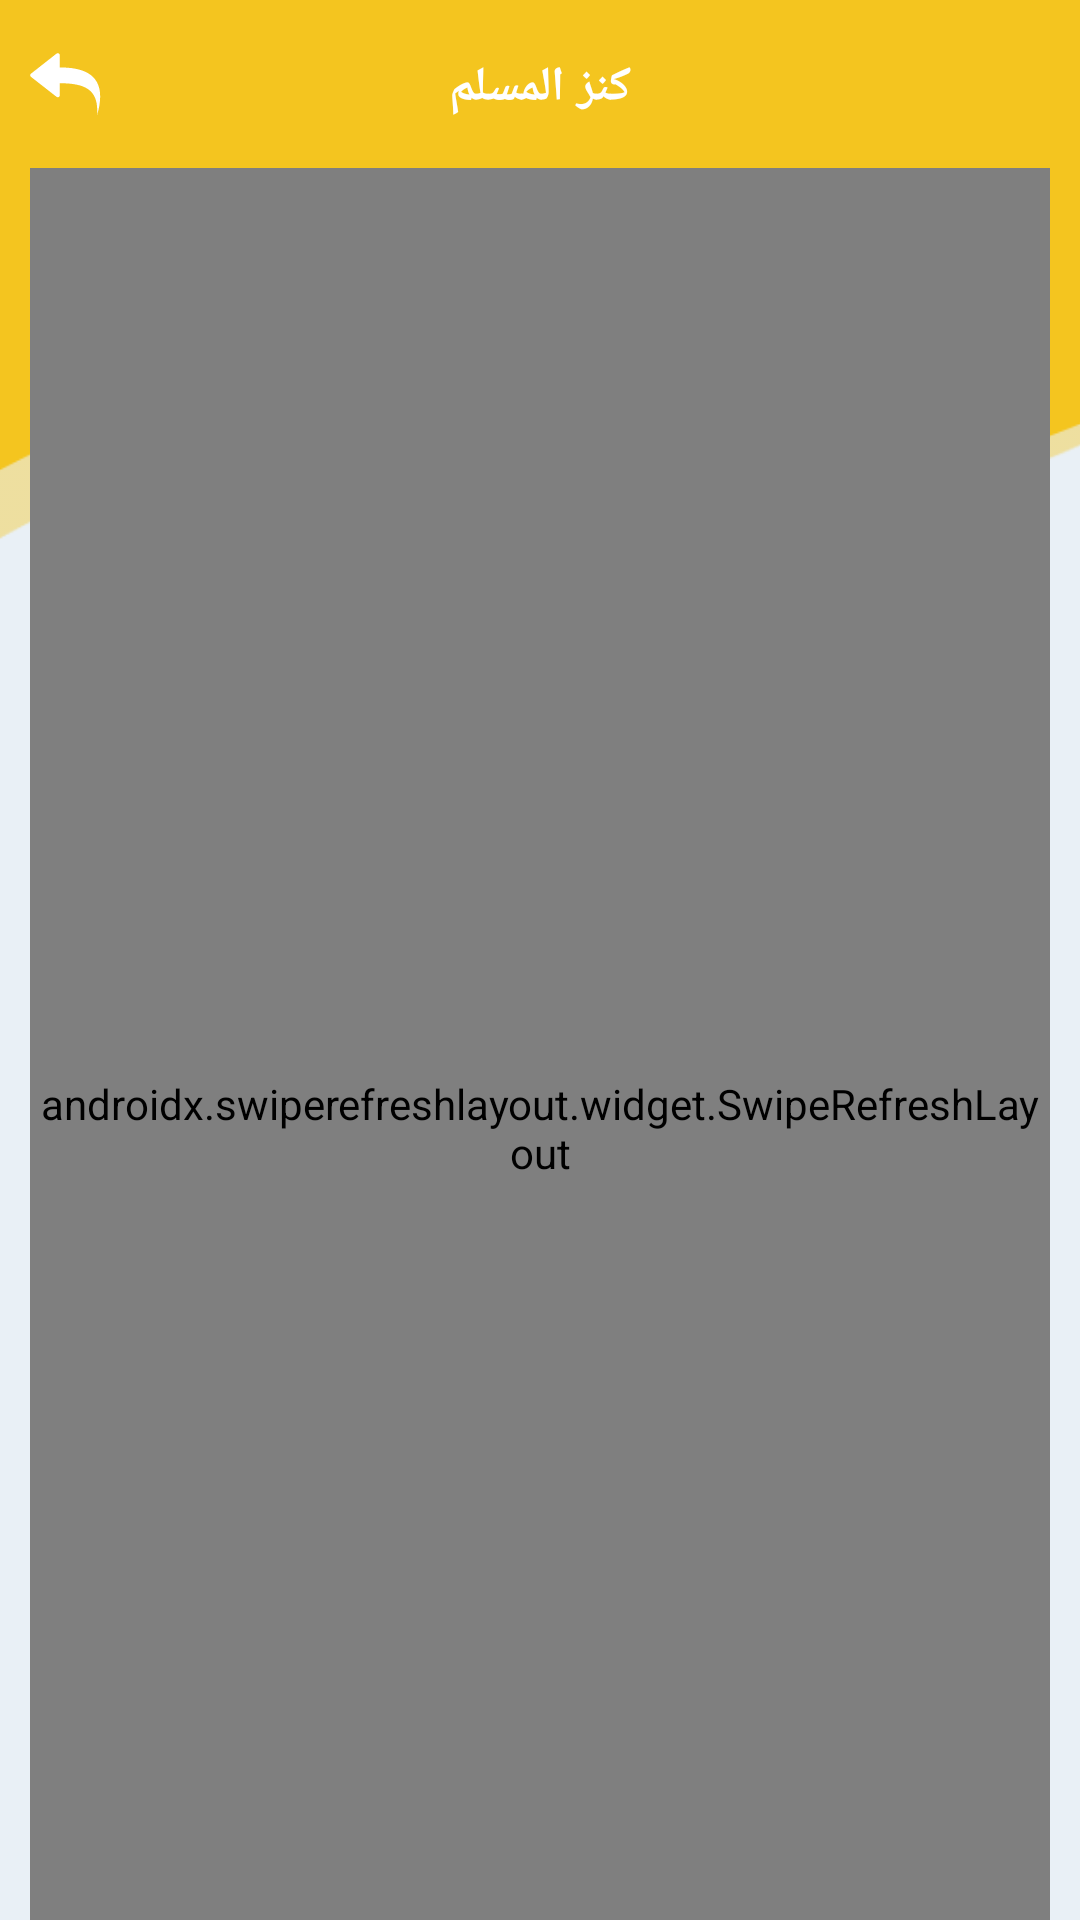

Screen size 1080 × 1920. Icon name, then its box in pixels as box(x1, y1, x2, y2):
detail back: box(30, 53, 101, 115)
